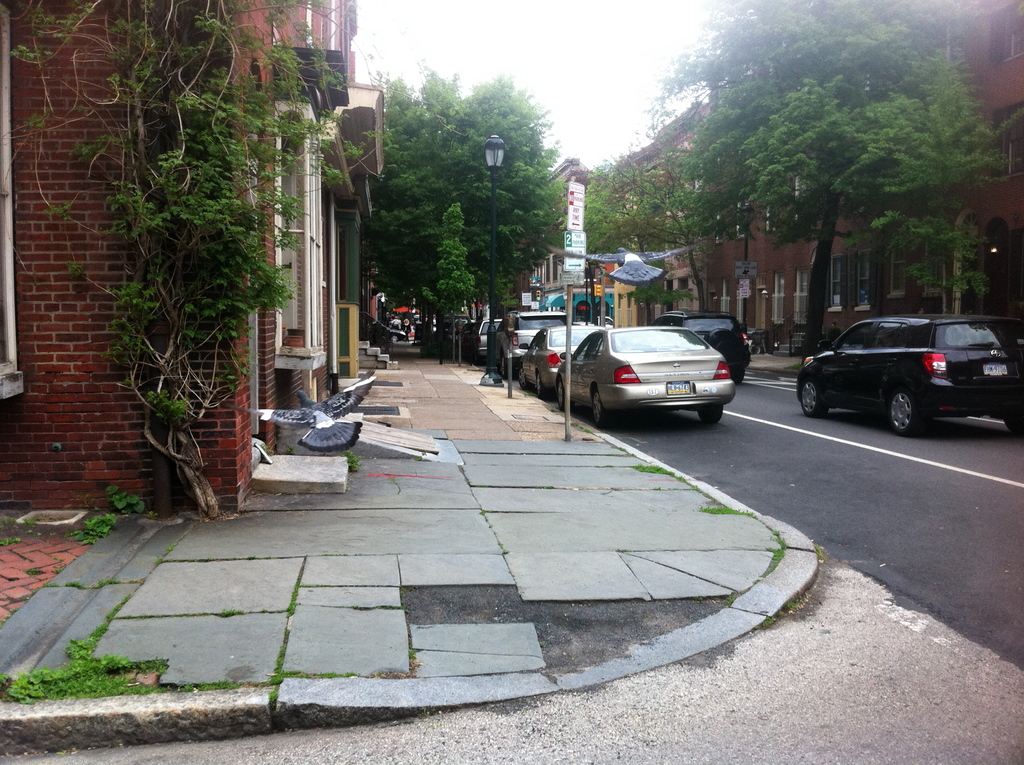Car: (798, 316, 1023, 435), (558, 328, 736, 424), (651, 318, 751, 393), (520, 324, 600, 389)
